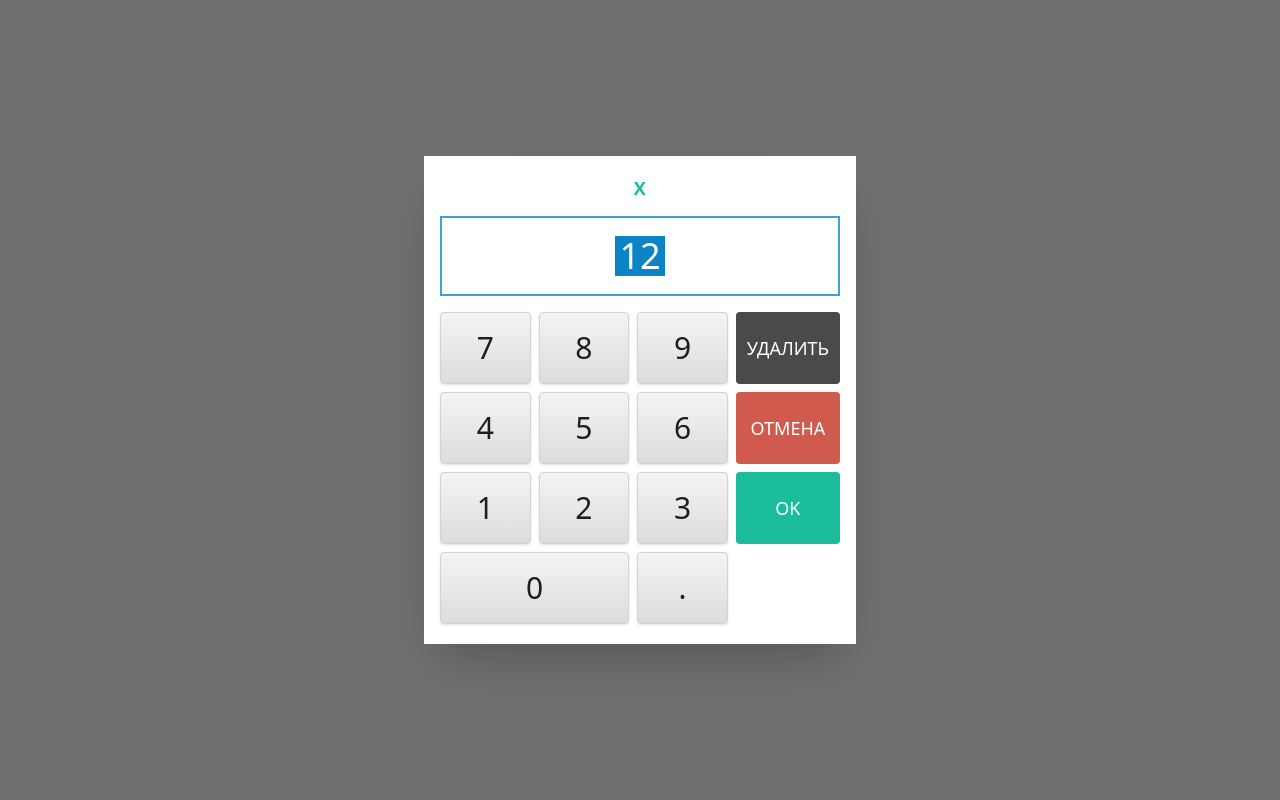
Test case: NumberDialog › УДАЛИТЬ removes the last character; on a selected value it clears to 0
This screenshot has width=1280, height=800.
Click the button "УДАЛИТЬ" at (788, 348), box [736, 312, 840, 384]
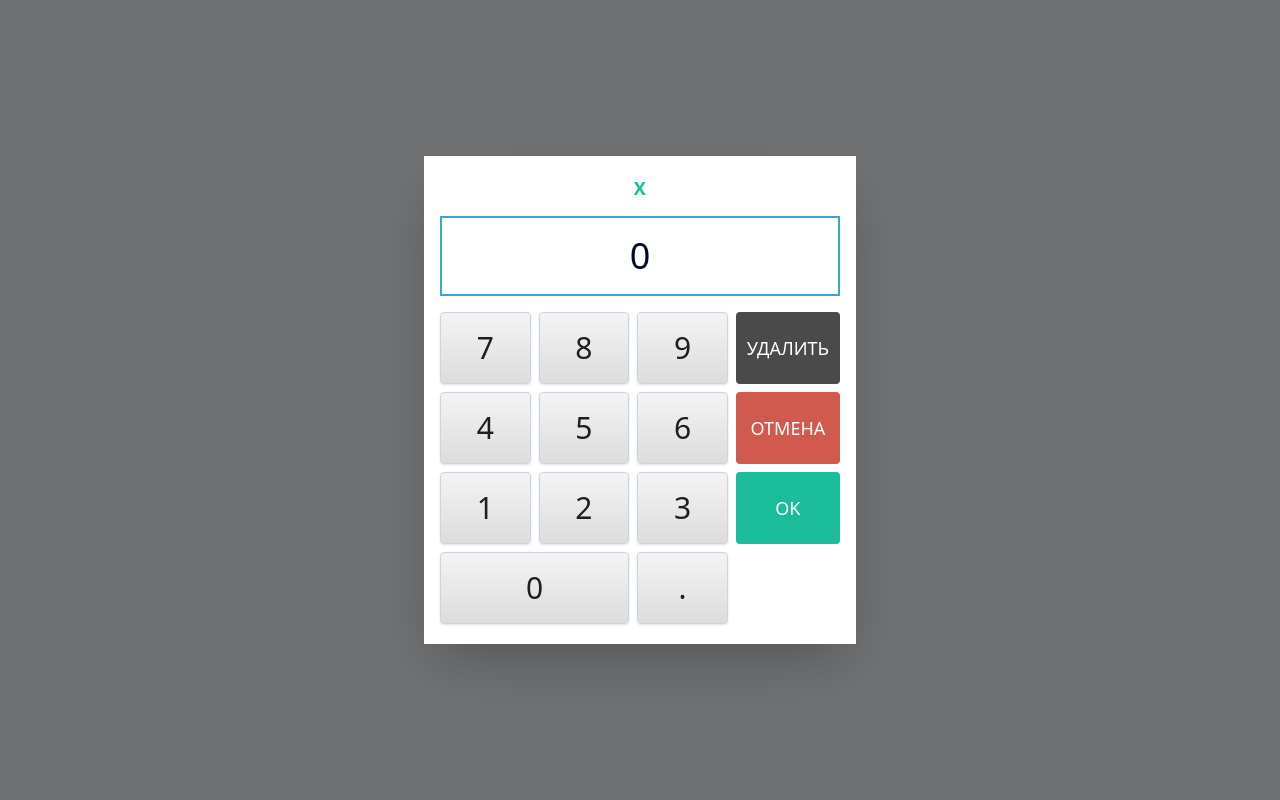
Result: the text with test id "number-dialog-value" reads "0" at [630, 231, 650, 280]
Click the button "7" at (485, 348), box [440, 312, 531, 384]
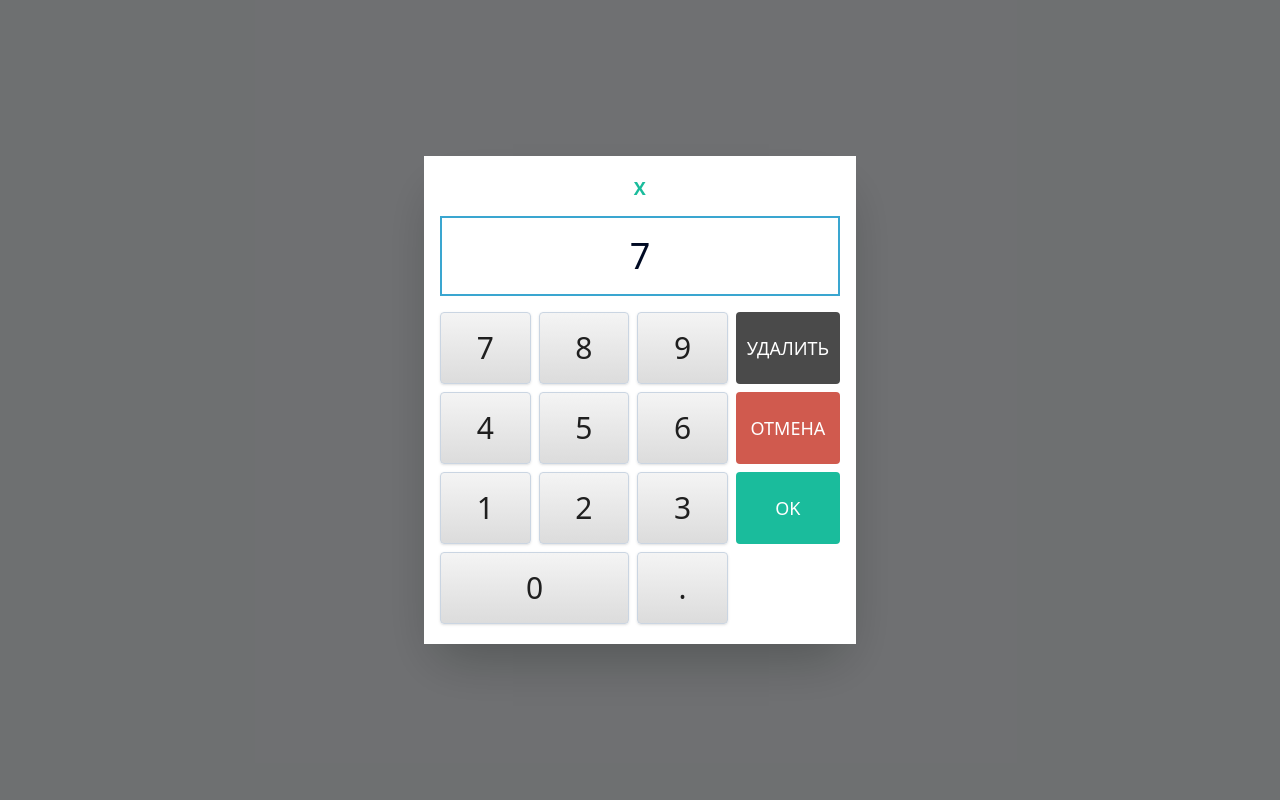
Click the button "8" at (584, 348), box [539, 312, 629, 384]
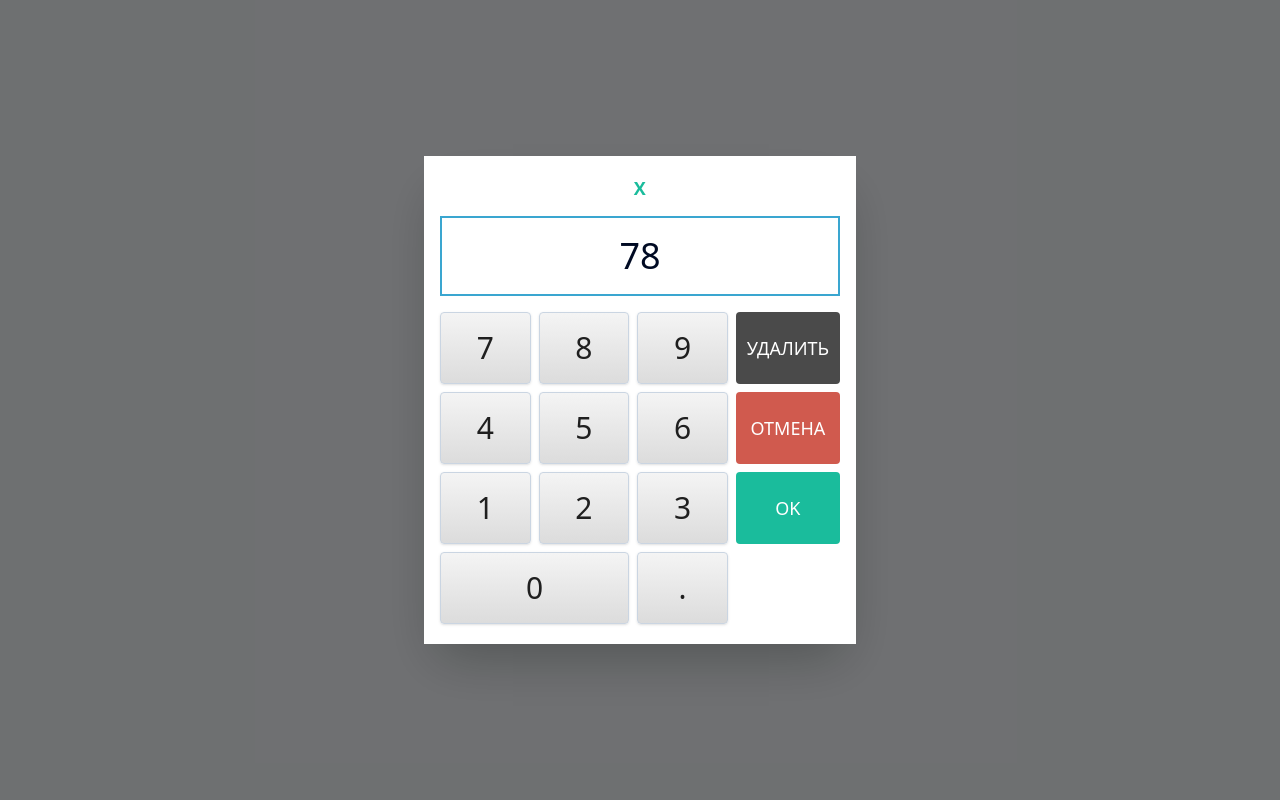
Click the button "УДАЛИТЬ" at (788, 348), box [736, 312, 840, 384]
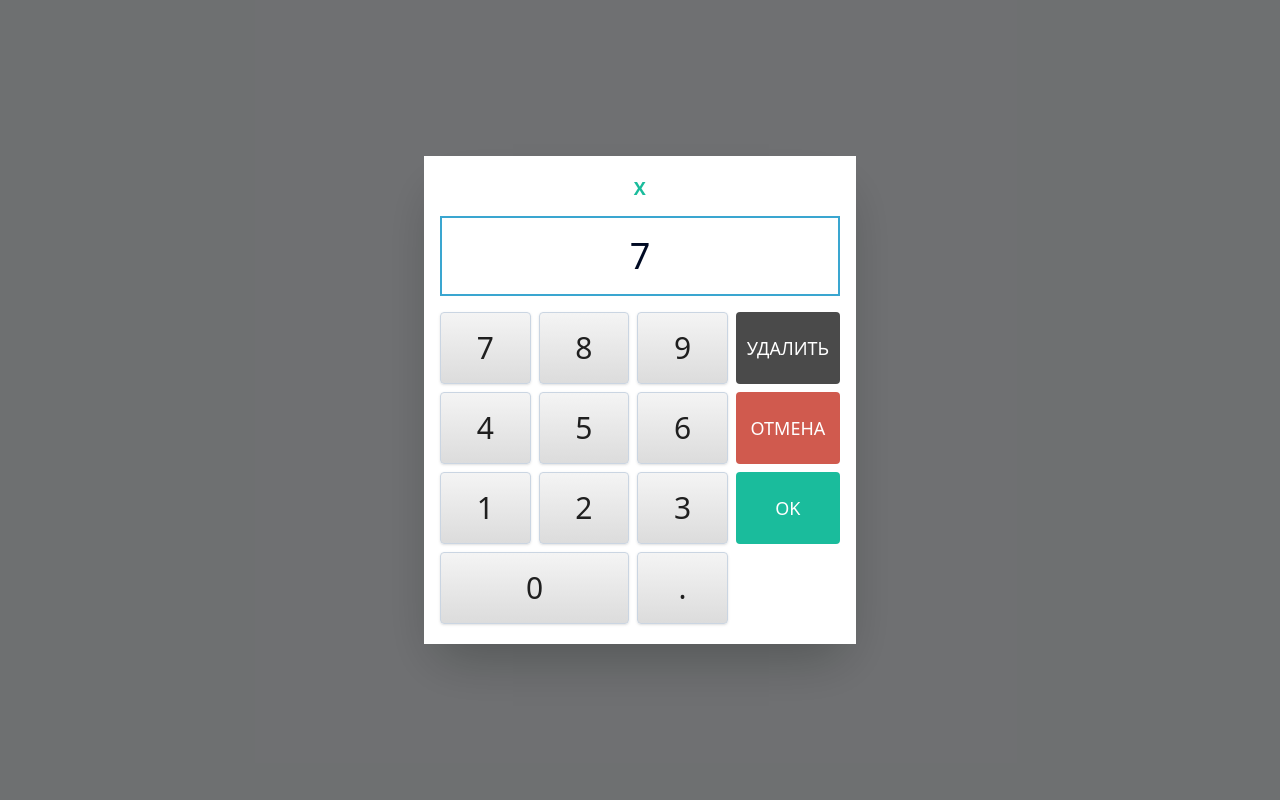
Result: the text with test id "number-dialog-value" reads "7" at [630, 231, 650, 280]
